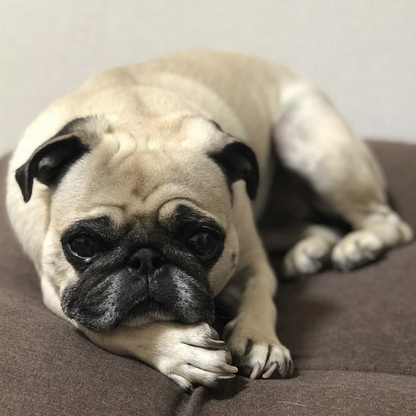Pug: (2, 43, 416, 394)
